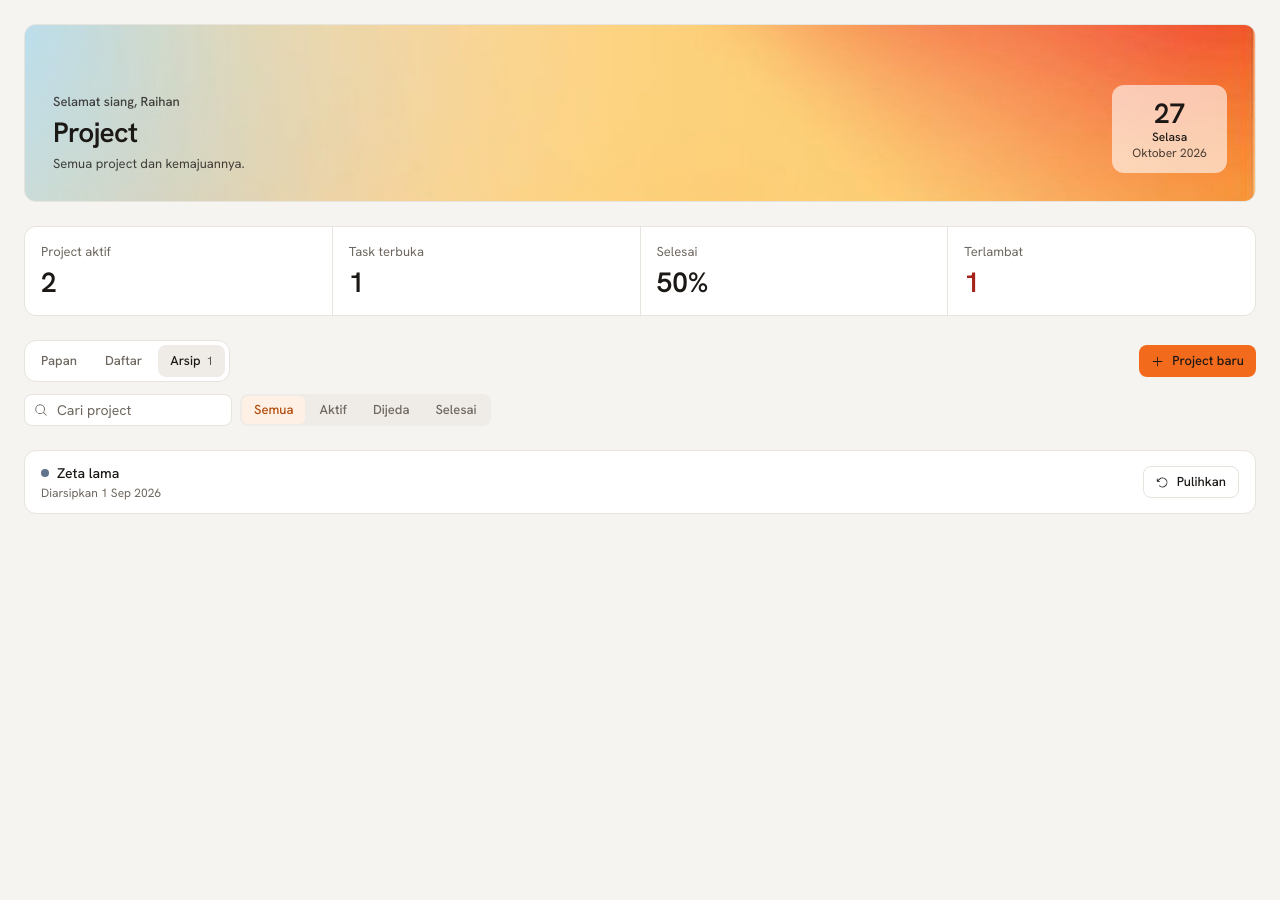
Test: ProjectsPage › lists archived projects under Arsip and restores one
This screenshot has width=1280, height=900.
Expected: the text "Zeta lama" is shown, top-left (57, 463), bottom-right (119, 483)
Click the button "Pulihkan" at (1191, 482), box top-left (1143, 466), bottom-right (1239, 498)
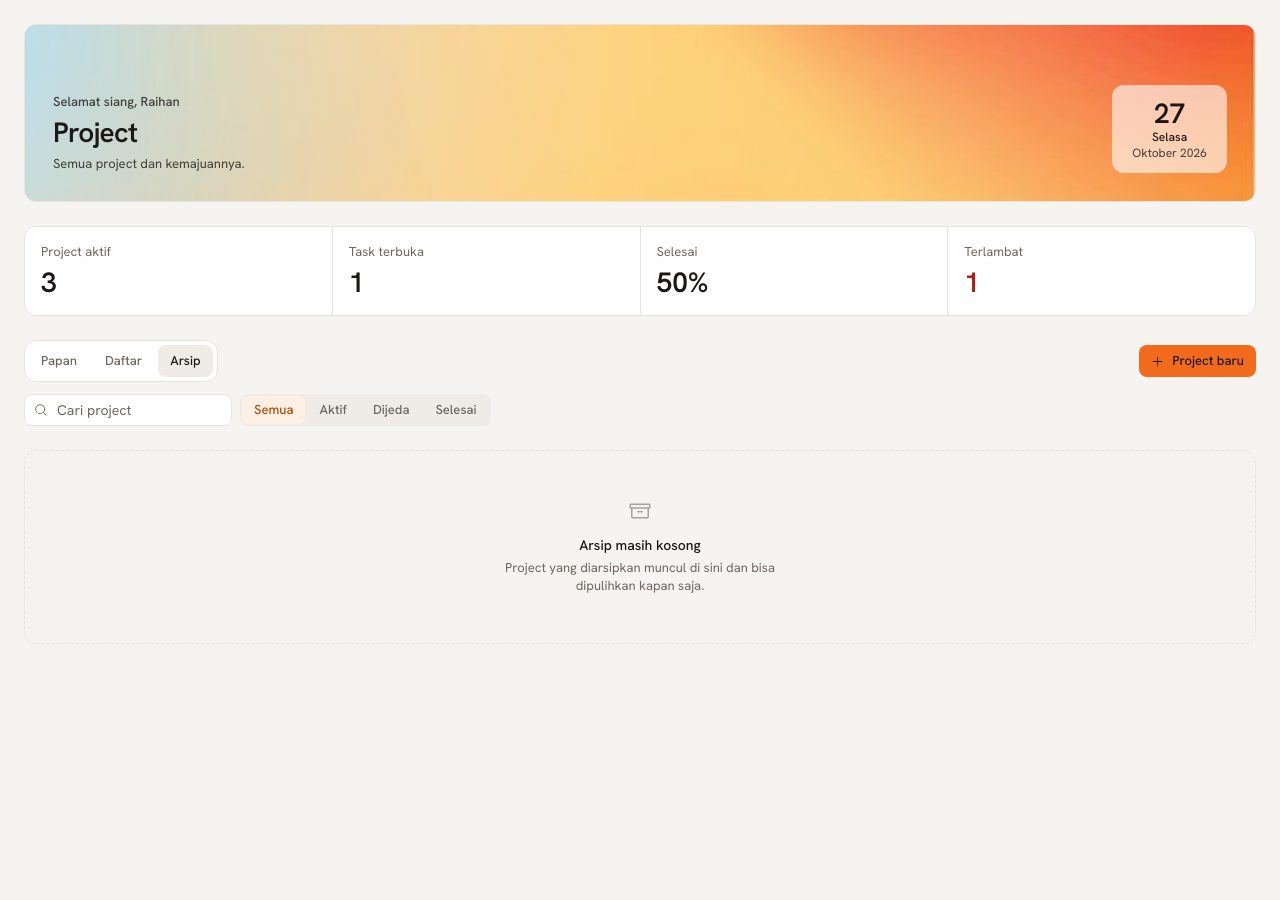
Now the text "Arsip masih kosong" is shown, box top-left (579, 536), bottom-right (701, 554)
Click the tab "Papan" at (59, 361), box top-left (29, 345), bottom-right (89, 377)
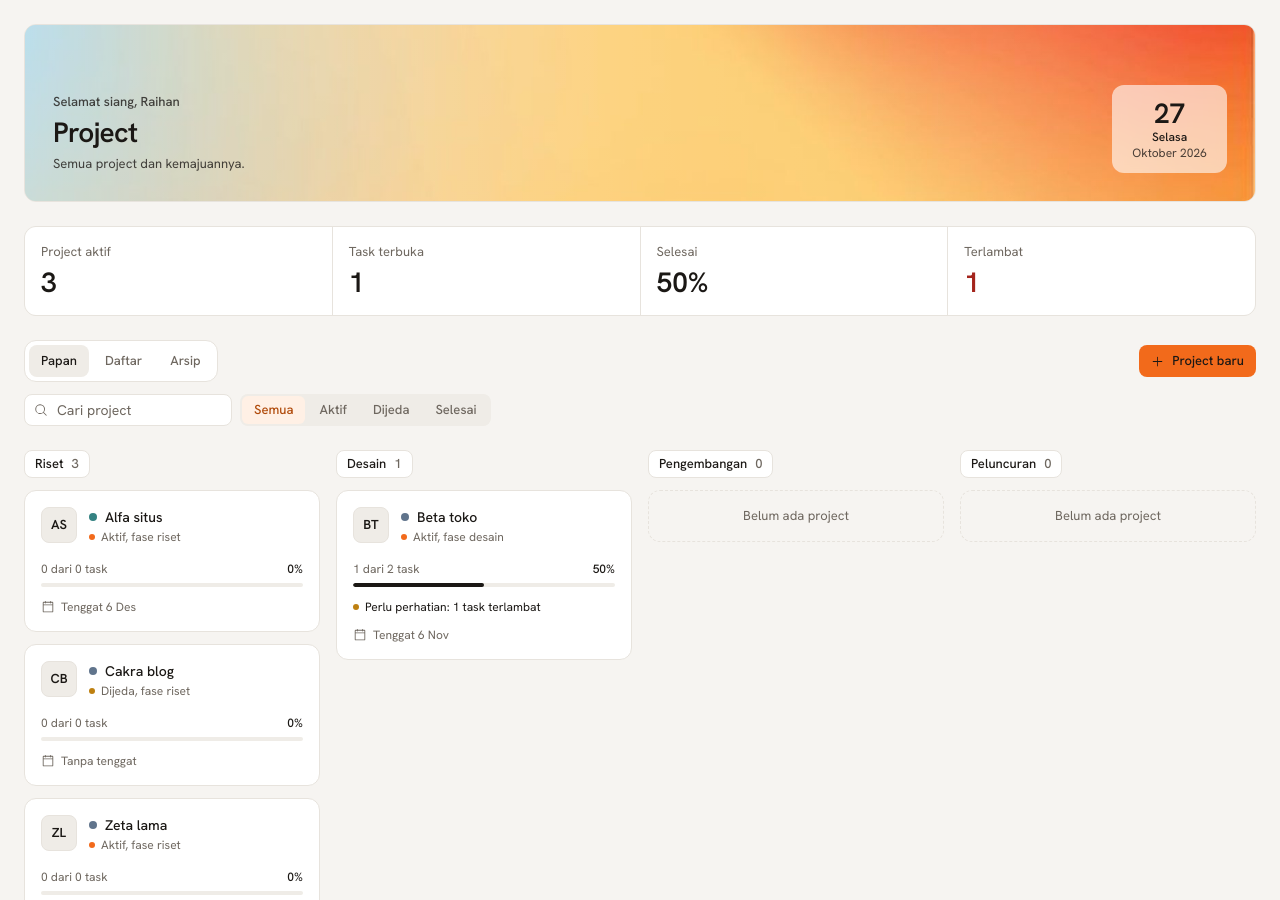
Now the text "Zeta lama" is shown, box top-left (105, 815), bottom-right (167, 835)
